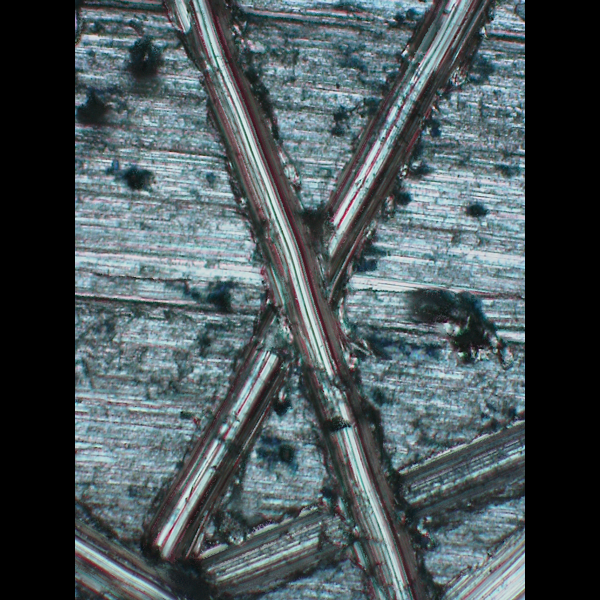d: (152, 1, 514, 599)
